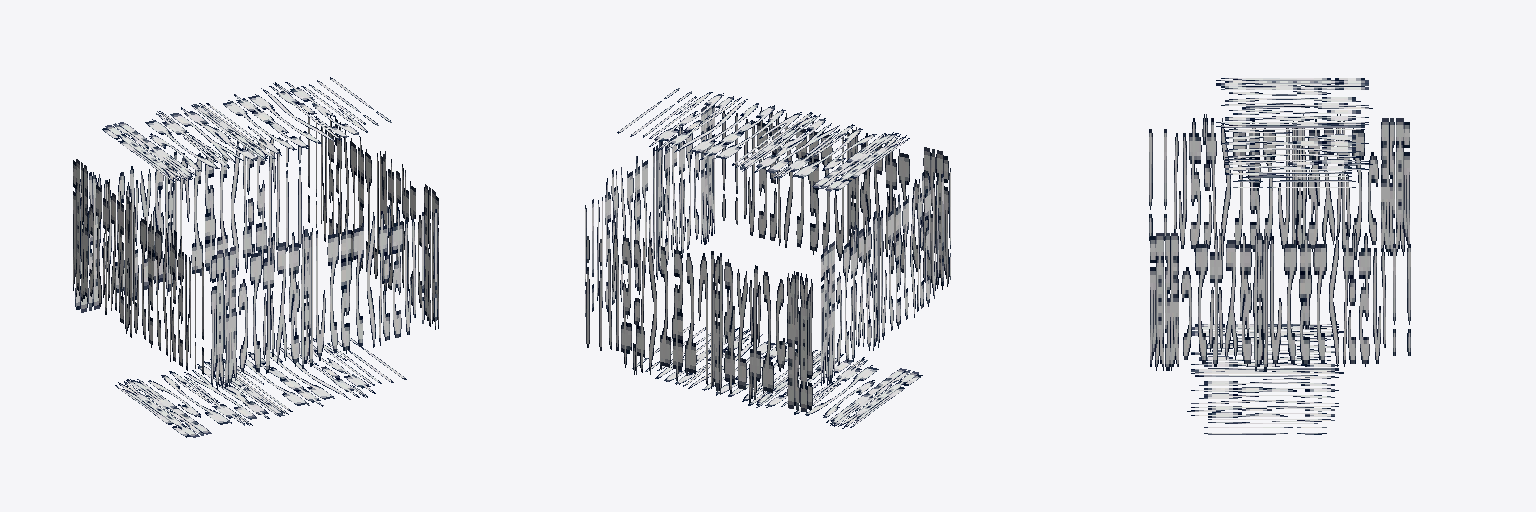
The picture shows the model from 3 angles: view 1: azimuth 30°, elevation 25°; view 2: azimuth 150°, elevation 25°; view 3: azimuth 270°, elevation 25°; orthographic projection.
Visible parts, largest first — view 1: GoLogo; view 2: GoLogo; view 3: GoLogo.
Part boxes in pixels (x1,y1,x2,y2): GoLogo: (73,77,438,437); GoLogo: (585,88,950,428); GoLogo: (1149,78,1410,434).
Bounding box in the file's own units: 2 × 2 × 2.
Materials: 1 (1 with a texture image).